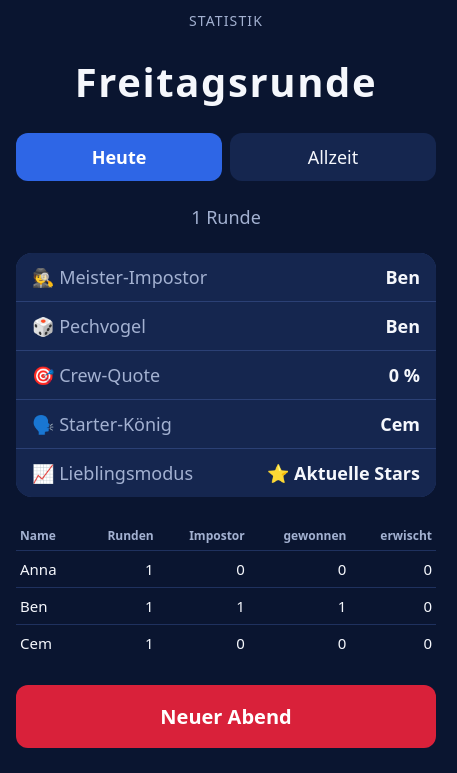
it: StatsScreen › schaltet auf Allzeit um
Click the button "Allzeit": (333, 157) x1=230 y1=133 x2=436 y2=181
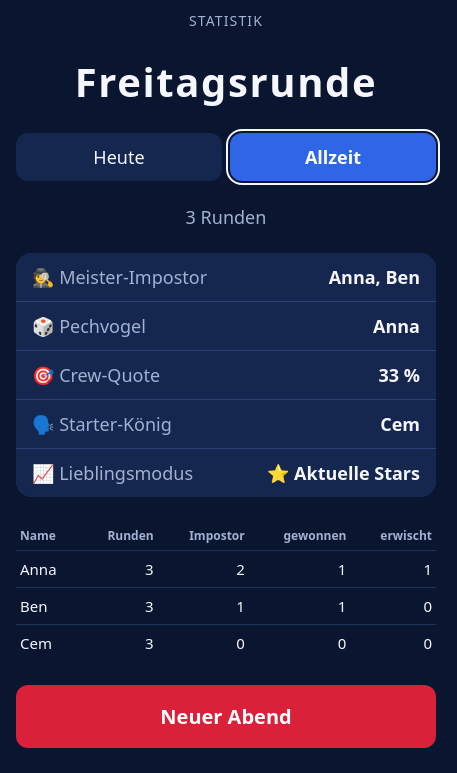
Expected: the text "3 Runden" is shown, x1=186 y1=205 x2=266 y2=229
Expected: the text "Anna" is shown, x1=373 y1=314 x2=420 y2=338
Expected: the text "33 %" is shown, x1=378 y1=363 x2=420 y2=387
